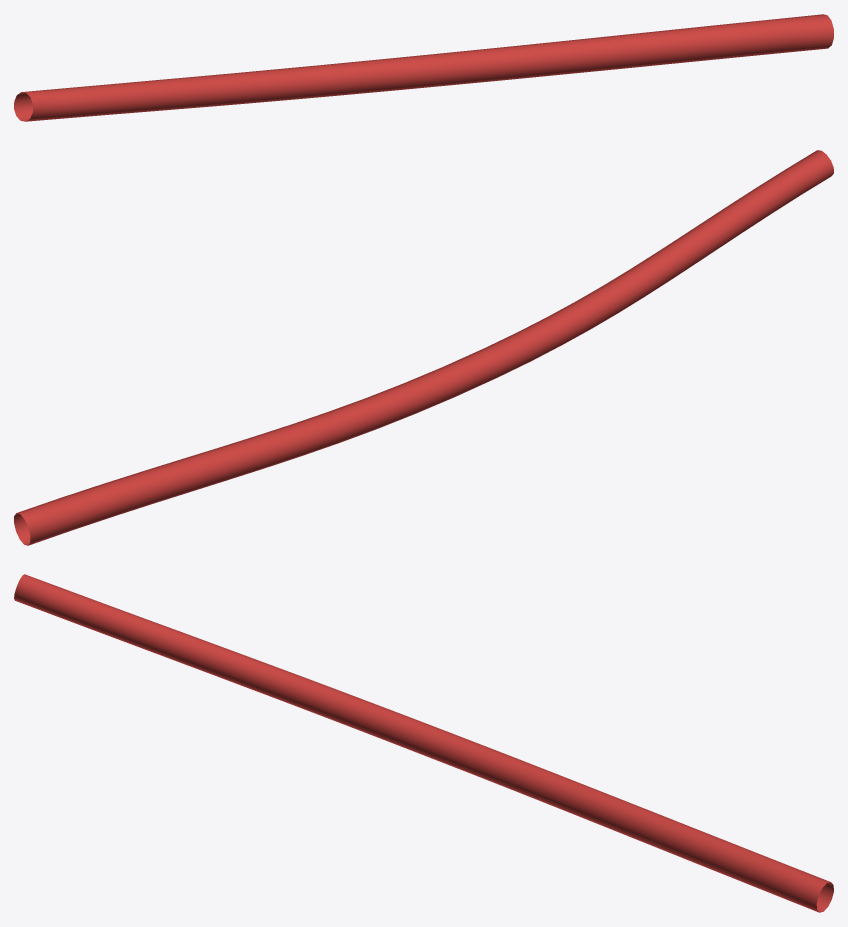
The picture shows the model from 3 angles, top to bottom: view 1: azimuth 30°, elevation 25°; view 2: azimuth 210°, elevation 25°; view 3: azimuth 330°, elevation 25°; orthographic projection. The views are drawn at different scales.
Visible parts, largest first — view 1: 右侧桡动脉掌腕支; view 2: 右侧桡动脉掌腕支; view 3: 右侧桡动脉掌腕支.
Part boxes in pixels (x1=…): 右侧桡动脉掌腕支: x1=14, y1=14, x2=833, y2=121; 右侧桡动脉掌腕支: x1=14, y1=150, x2=833, y2=545; 右侧桡动脉掌腕支: x1=14, y1=574, x2=833, y2=912.
Size of the model in its own units: 0.0402 by 0.00803 by 0.0043.
